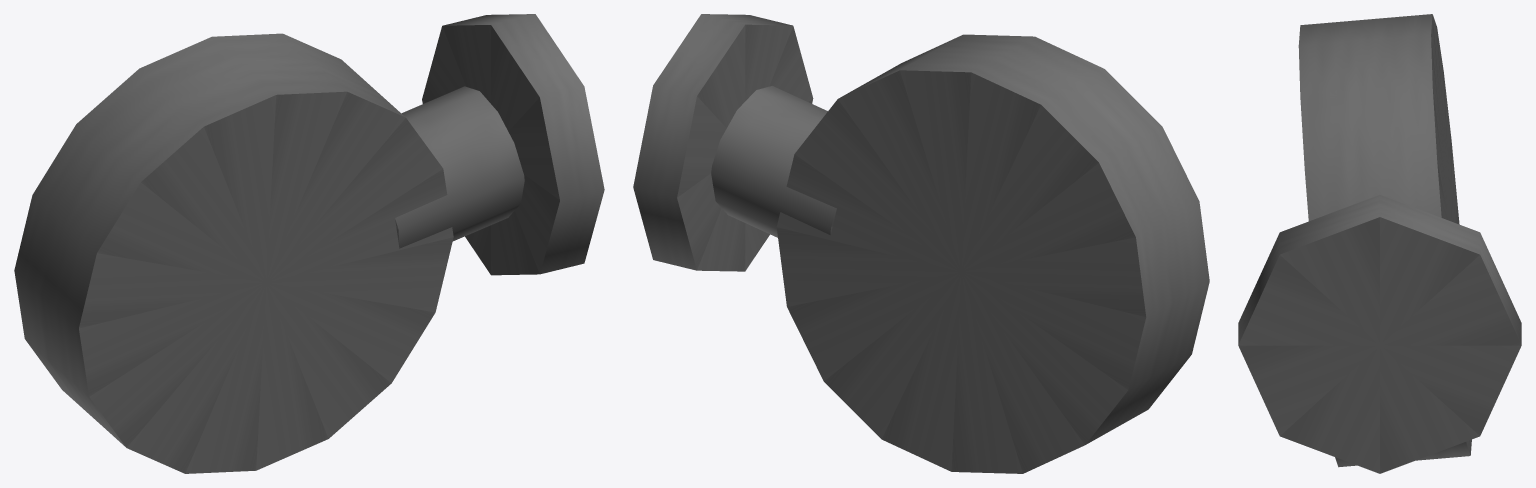
The model's file is mastarmcurve_8x2_c8_east.obj.
3 renders of one model, left to right at view 1: azimuth 30°, elevation 25°; view 2: azimuth 150°, elevation 25°; view 3: azimuth 270°, elevation 25°, orthographic. The views are drawn at different scales.
Visible parts, largest first — view 1: mastarm_8x2_c8_east; view 2: mastarm_8x2_c8_east; view 3: mastarm_8x2_c8_east.
Boxes of the visible parts, x1,y1,x2,y2 form: mastarm_8x2_c8_east: [14, 14, 604, 473]; mastarm_8x2_c8_east: [633, 14, 1209, 473]; mastarm_8x2_c8_east: [1238, 14, 1521, 473].
Size of the model in its own units: 0.8126 by 0.6412 by 0.4.
